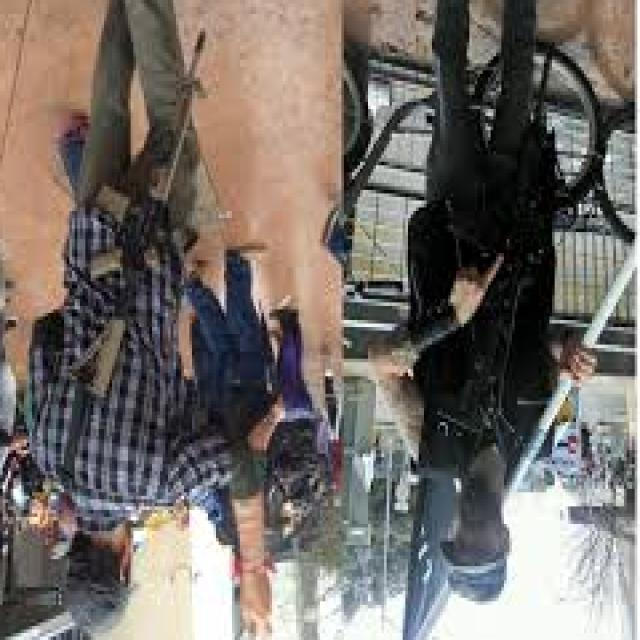gun: (42, 26, 219, 420), (417, 36, 572, 467)
